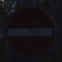No entry: (6, 6, 57, 57)
